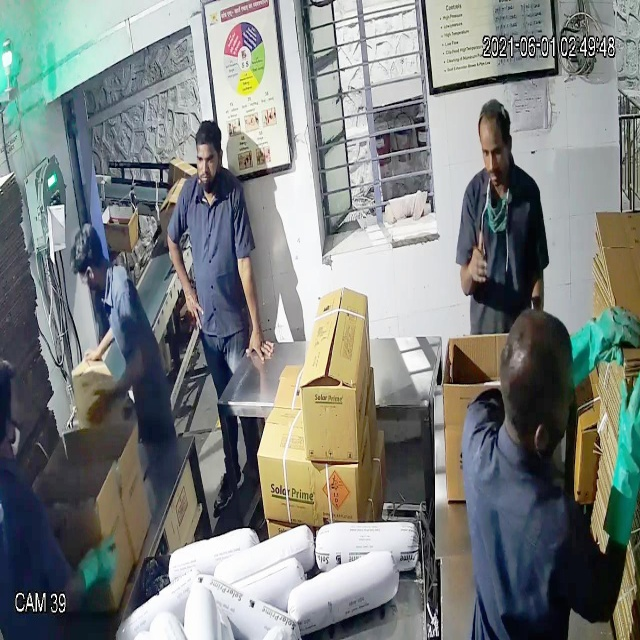Sin_gafas: (474, 133, 515, 169), (188, 145, 226, 173)
